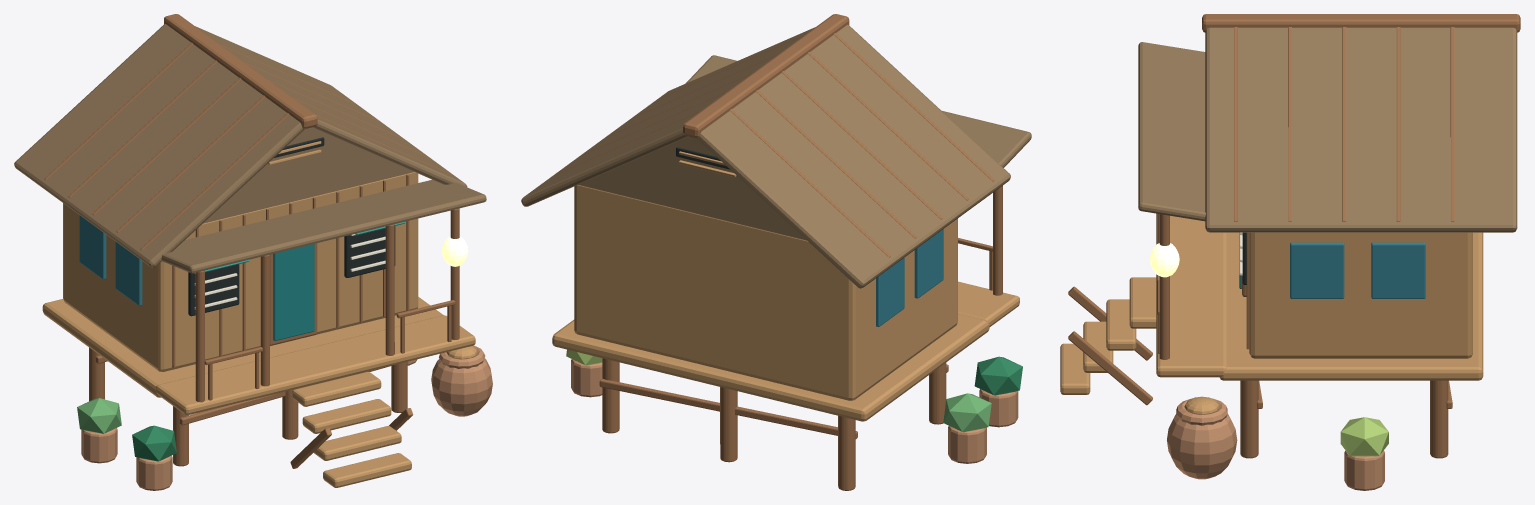
File: kampong-house-v2.glb
3 renders of one model, left to right at view 1: azimuth 30°, elevation 25°; view 2: azimuth 150°, elevation 25°; view 3: azimuth 270°, elevation 25°, orthographic. The views are drawn at different scales.
Parts seen in each view (by area): view 1: KAMPONG HOUSE · Attap thatch, KAMPONG HOUSE · Sun timber, KAMPONG HOUSE · Timber, KAMPONG HOUSE · Fired clay, KAMPONG HOUSE · Deep teal, KAMPONG HOUSE · Ink, KAMPONG HOUSE · Graphic glass, KAMPONG HOUSE · Plant deep, KAMPONG HOUSE · Plant mid, KAMPONG HOUSE · Chalk, KAMPONG HOUSE · Window warm; view 2: KAMPONG HOUSE · Sun timber, KAMPONG HOUSE · Attap thatch, KAMPONG HOUSE · Timber, KAMPONG HOUSE · Fired clay, KAMPONG HOUSE · Graphic glass, KAMPONG HOUSE · Plant deep, KAMPONG HOUSE · Plant mid; view 3: KAMPONG HOUSE · Attap thatch, KAMPONG HOUSE · Sun timber, KAMPONG HOUSE · Timber, KAMPONG HOUSE · Graphic glass, KAMPONG HOUSE · Fired clay, KAMPONG HOUSE · Plant lime, KAMPONG HOUSE · Window warm.
Part boxes in pixels (x1,y1,x2,y2): KAMPONG HOUSE · Attap thatch: (14,24,486,273); KAMPONG HOUSE · Sun timber: (42,141,477,487); KAMPONG HOUSE · Timber: (44,14,459,468); KAMPONG HOUSE · Fired clay: (81,345,492,490); KAMPONG HOUSE · Deep teal: (273,244,314,340); KAMPONG HOUSE · Ink: (188,137,395,316); KAMPONG HOUSE · Graphic glass: (79,215,142,305); KAMPONG HOUSE · Plant deep: (132,425,176,461); KAMPONG HOUSE · Plant mid: (77,398,121,433); KAMPONG HOUSE · Chalk: (194,234,385,309); KAMPONG HOUSE · Window warm: (442,236,468,266); KAMPONG HOUSE · Sun timber: (552,151,1019,421); KAMPONG HOUSE · Attap thatch: (521,24,1031,288); KAMPONG HOUSE · Timber: (554,14,1002,490); KAMPONG HOUSE · Fired clay: (571,359,1018,463); KAMPONG HOUSE · Graphic glass: (876,229,943,326); KAMPONG HOUSE · Plant deep: (974,356,1022,395); KAMPONG HOUSE · Plant mid: (943,393,991,432); KAMPONG HOUSE · Attap thatch: (1138,27,1517,232); KAMPONG HOUSE · Sun timber: (1060,213,1483,414); KAMPONG HOUSE · Timber: (1068,14,1520,458); KAMPONG HOUSE · Graphic glass: (1290,242,1425,298); KAMPONG HOUSE · Fired clay: (1167,398,1384,490); KAMPONG HOUSE · Plant lime: (1340,417,1388,456); KAMPONG HOUSE · Window warm: (1150,243,1179,277).
Size of the model in its own units: 7 by 6.16 by 6.79.
